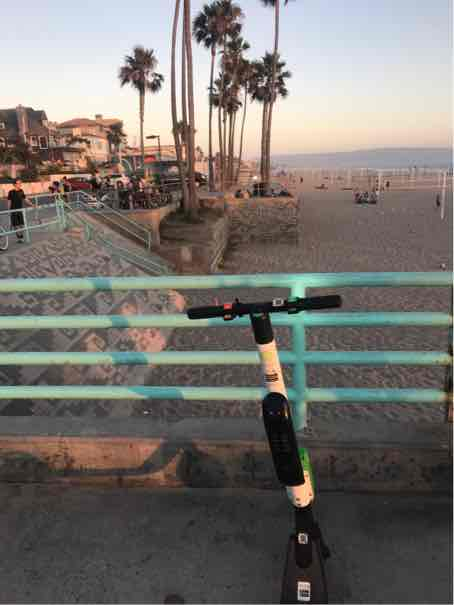scooter: (180, 294, 368, 605)
